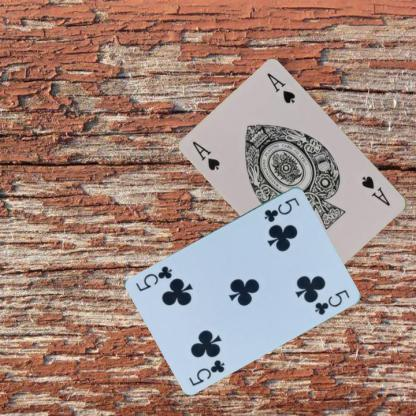5c: (186, 357, 227, 387), (262, 194, 301, 224)
As: (359, 173, 392, 207), (189, 138, 222, 172)
